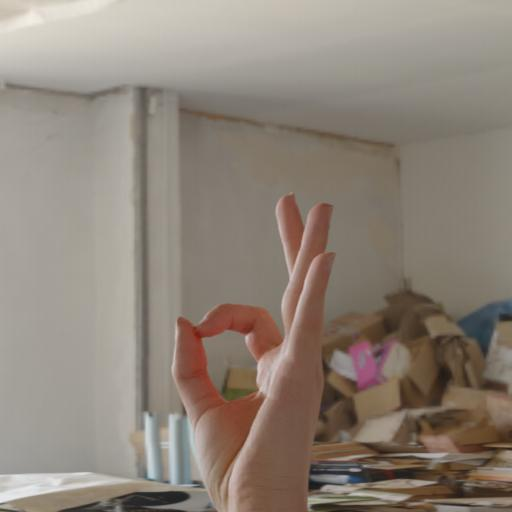F: (152, 183, 362, 497)
